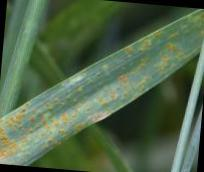Wheat: (0, 123, 32, 159), (37, 105, 69, 133), (130, 45, 178, 63), (109, 73, 131, 100)
